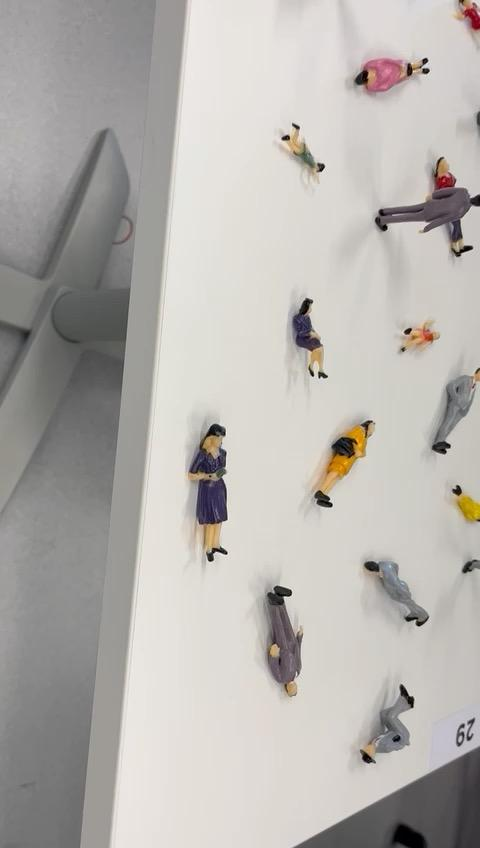human: (179, 418, 239, 582), (302, 408, 389, 513), (357, 549, 435, 647), (347, 678, 417, 787), (251, 581, 308, 703), (424, 144, 480, 262), (341, 44, 447, 102), (374, 186, 480, 241), (282, 286, 344, 379), (427, 358, 480, 458), (271, 108, 334, 184), (397, 304, 447, 373), (445, 0, 480, 51)
